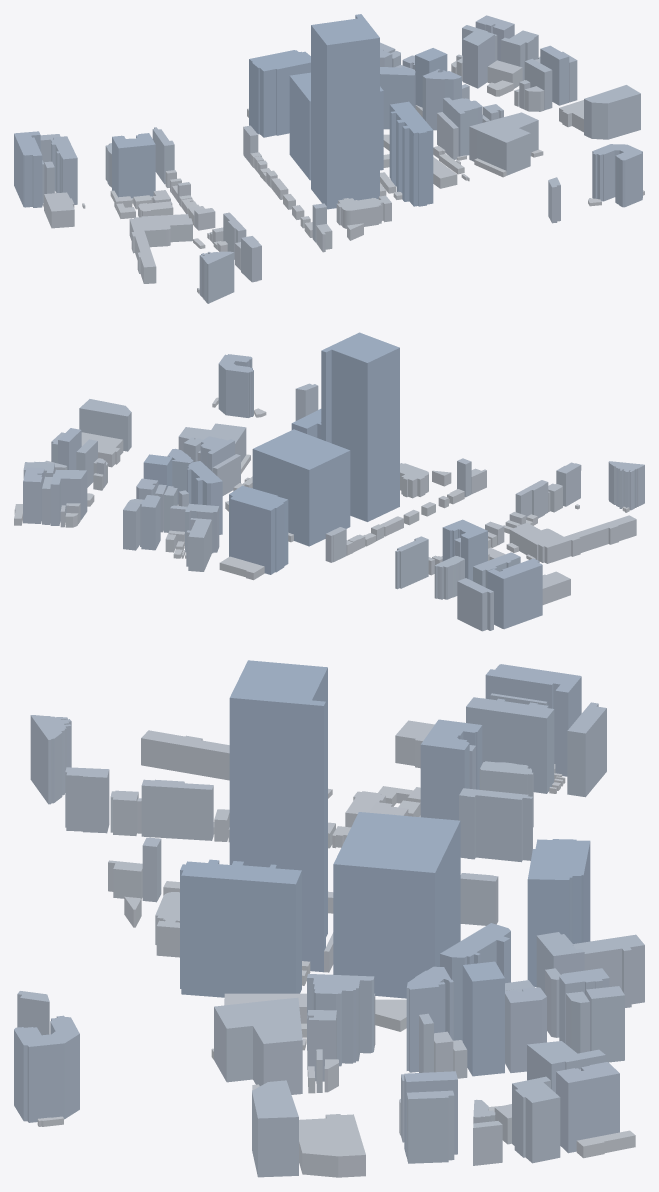
3 views of the same model, one above another, from view 1: azimuth 30°, elevation 25°; view 2: azimuth 150°, elevation 25°; view 3: azimuth 270°, elevation 25° (orthographic). The views are drawn at different scales.
Size of the model in its own units: 533 by 154 by 330.
